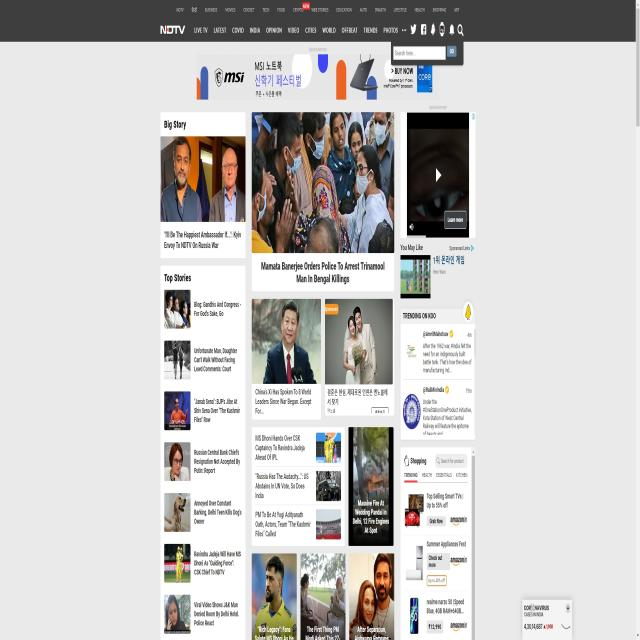menu-bar: (178, 2, 462, 20)
search: (394, 42, 458, 59)
side-panel: (399, 313, 483, 639)
tab-bar: (190, 20, 466, 49)
